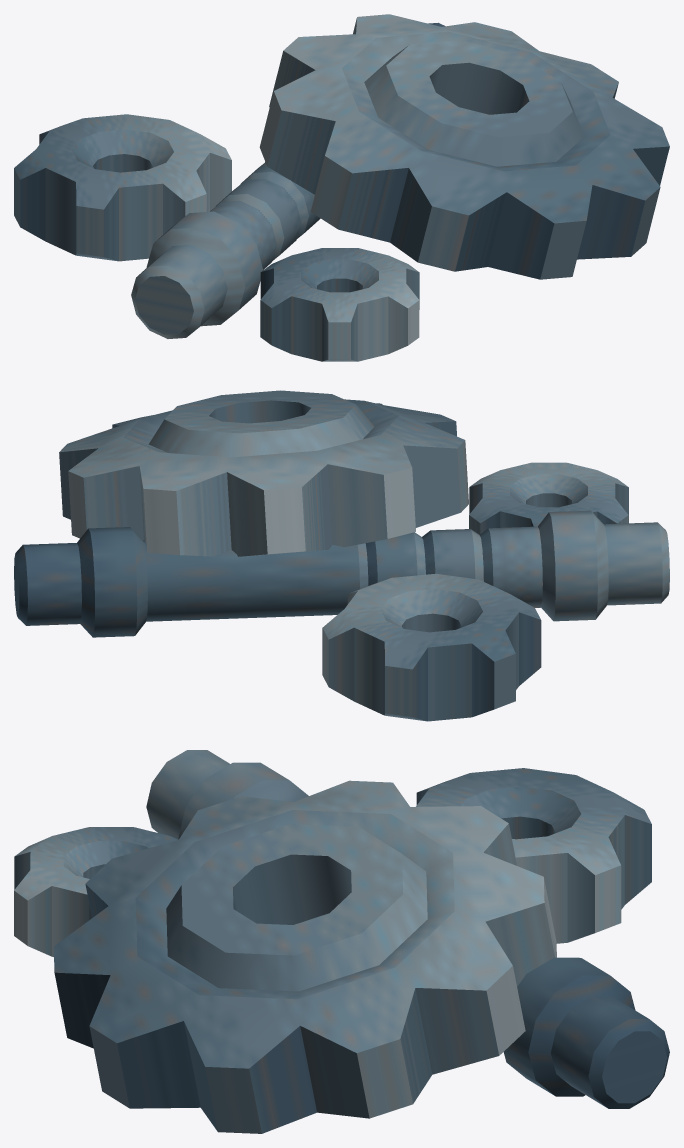
The model's file is Parts_Pile_Small.gltf.
3 views of the same model, one above another, from view 1: azimuth 30°, elevation 25°; view 2: azimuth 150°, elevation 25°; view 3: azimuth 270°, elevation 25° (orthographic). The views are drawn at different scales.
Parts seen in each view (by area): view 1: Parts_Pile_Small; view 2: Parts_Pile_Small; view 3: Parts_Pile_Small.
Boxes of the visible parts, left/top/right/bottom form: Parts_Pile_Small: left=14, top=14, right=669, bottom=361; Parts_Pile_Small: left=14, top=390, right=669, bottom=721; Parts_Pile_Small: left=14, top=750, right=669, bottom=1133.
Bounding box in the file's own units: 1.16 × 0.3344 × 0.9909.
1 material, 1 textured.
